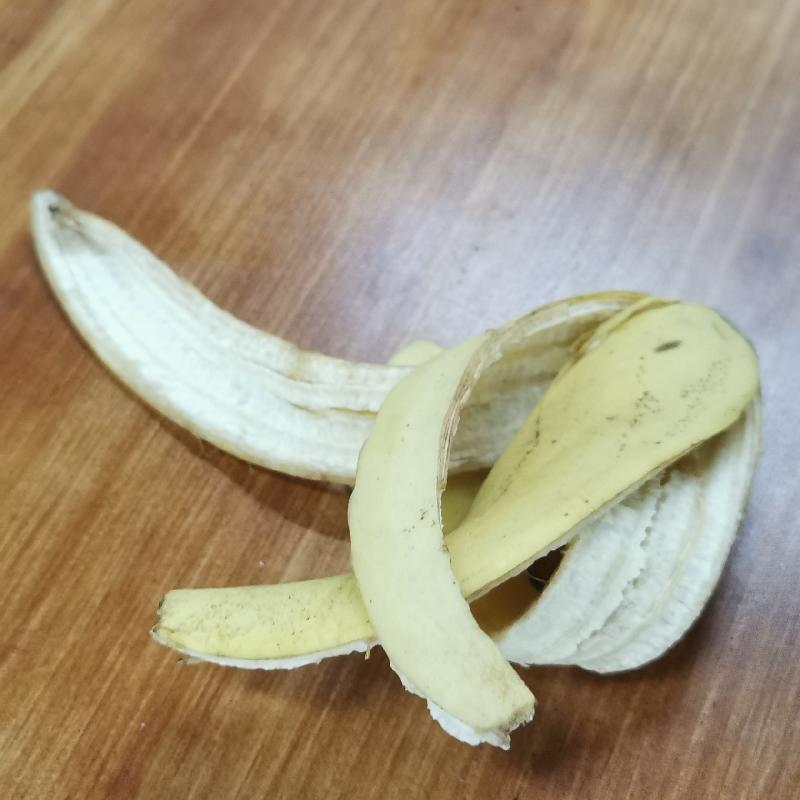bananas: (17, 174, 779, 750)
